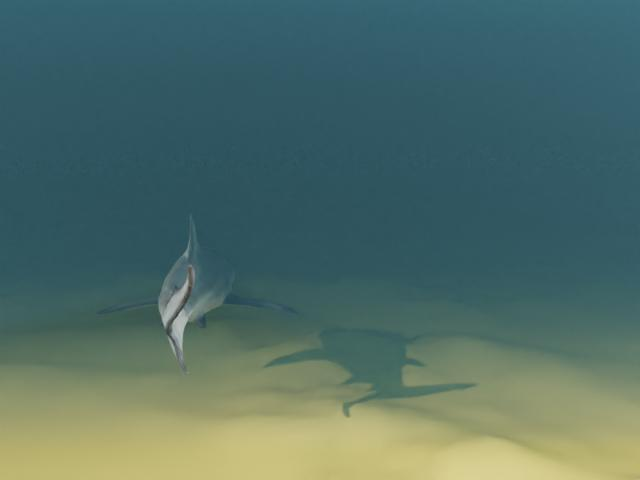Carribean Shark.001: (93, 213, 299, 374)
